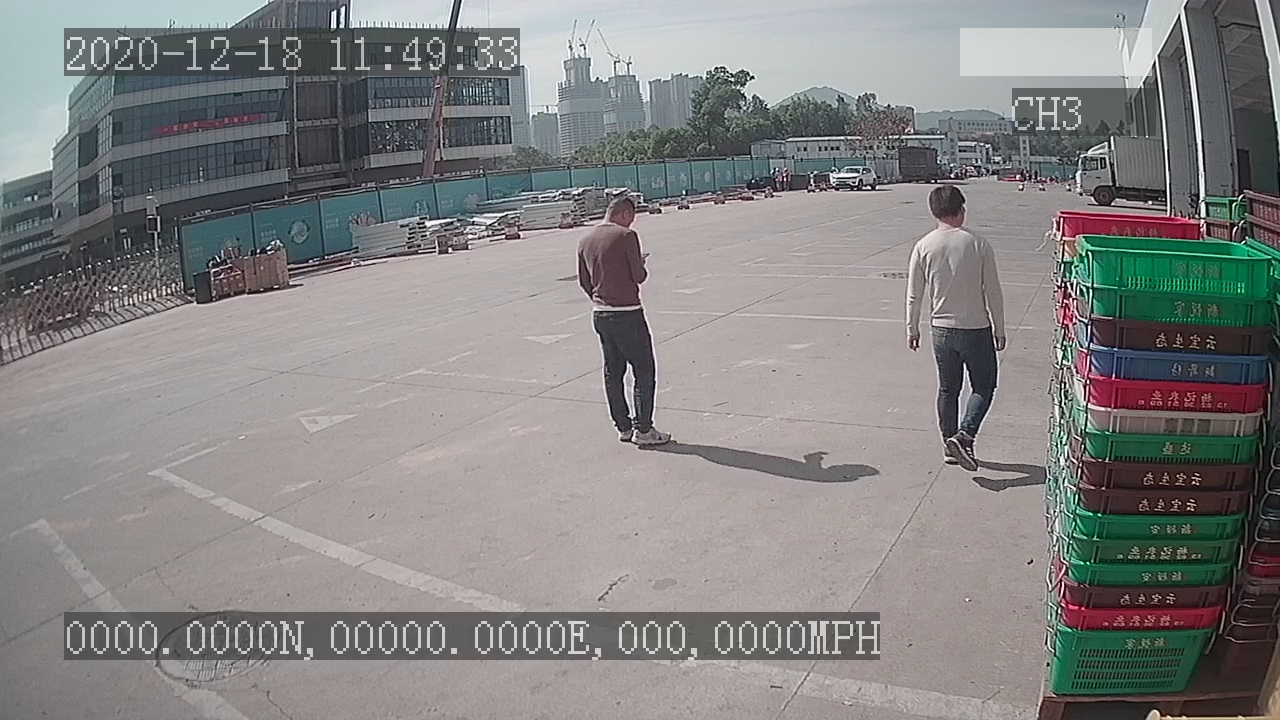person: (902, 177, 1011, 477), (574, 194, 681, 452)
